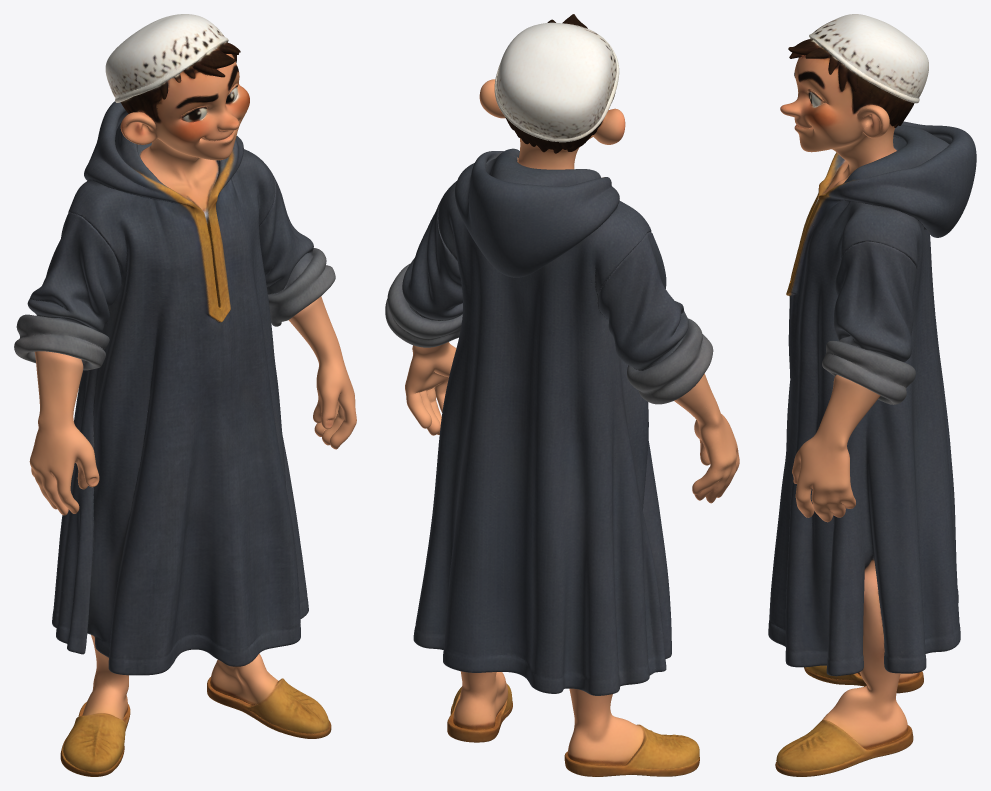
File: grand2__base_basic_pbr.glb
3 views of the same model, side by side, from view 1: azimuth 30°, elevation 25°; view 2: azimuth 150°, elevation 25°; view 3: azimuth 270°, elevation 25° (orthographic). The views are drawn at different scales.
Parts seen in each view (by area): view 1: model; view 2: model; view 3: model.
Part boxes in pixels (left/top/right/bottom): model: left=14, top=14, right=356, bottom=776; model: left=385, top=14, right=739, bottom=776; model: left=768, top=14, right=976, bottom=776.
Bounding box in the file's own units: 0.8848 × 1.9 × 0.5123.
1 material, 1 textured.
